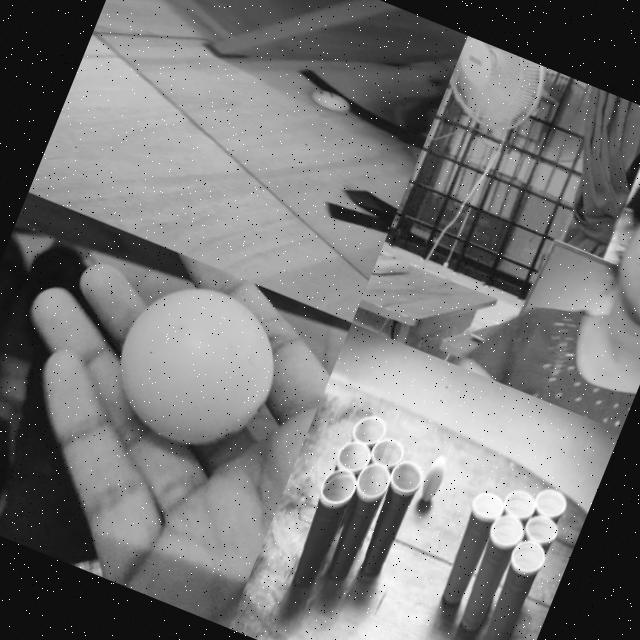ping-pong-ball: (100, 264, 298, 463), (418, 453, 448, 500), (310, 84, 351, 112)
